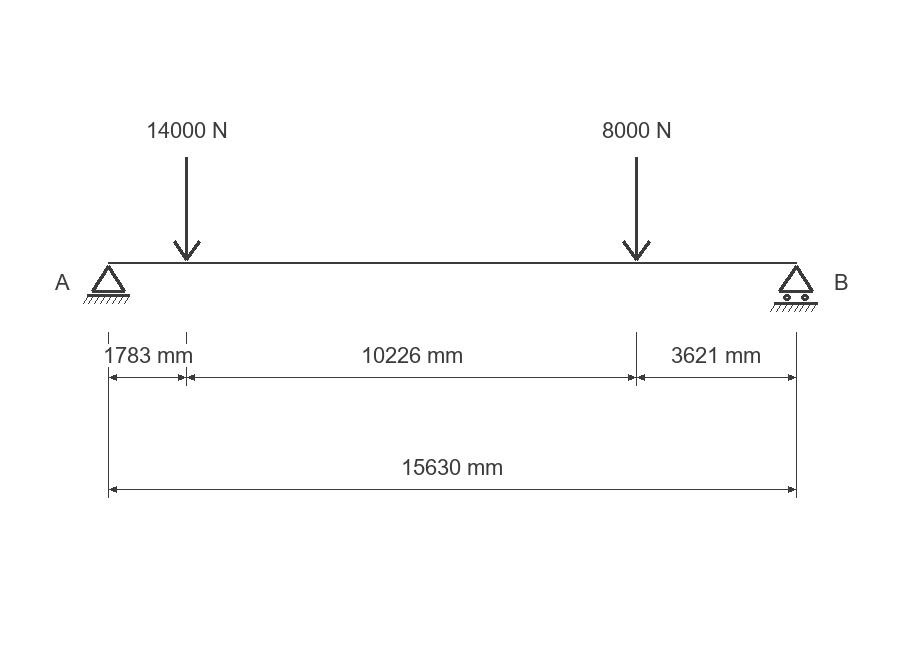pin_support: (83, 265, 130, 304)
point_load: (622, 157, 651, 261), (173, 157, 201, 261)
roller_support: (770, 265, 818, 312)
